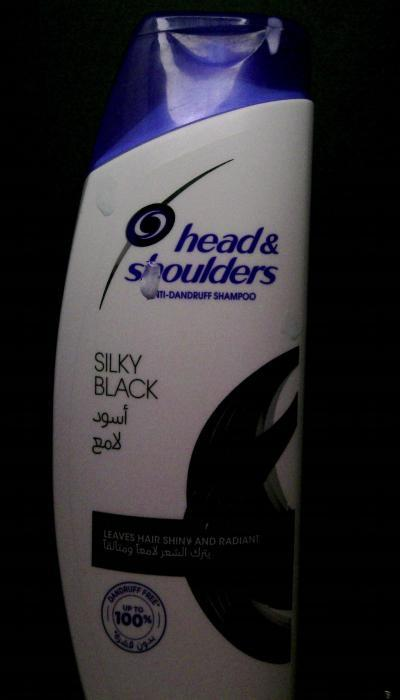pob_unacc: (248, 6, 302, 64), (134, 256, 176, 302), (270, 306, 314, 344), (94, 176, 123, 224)
